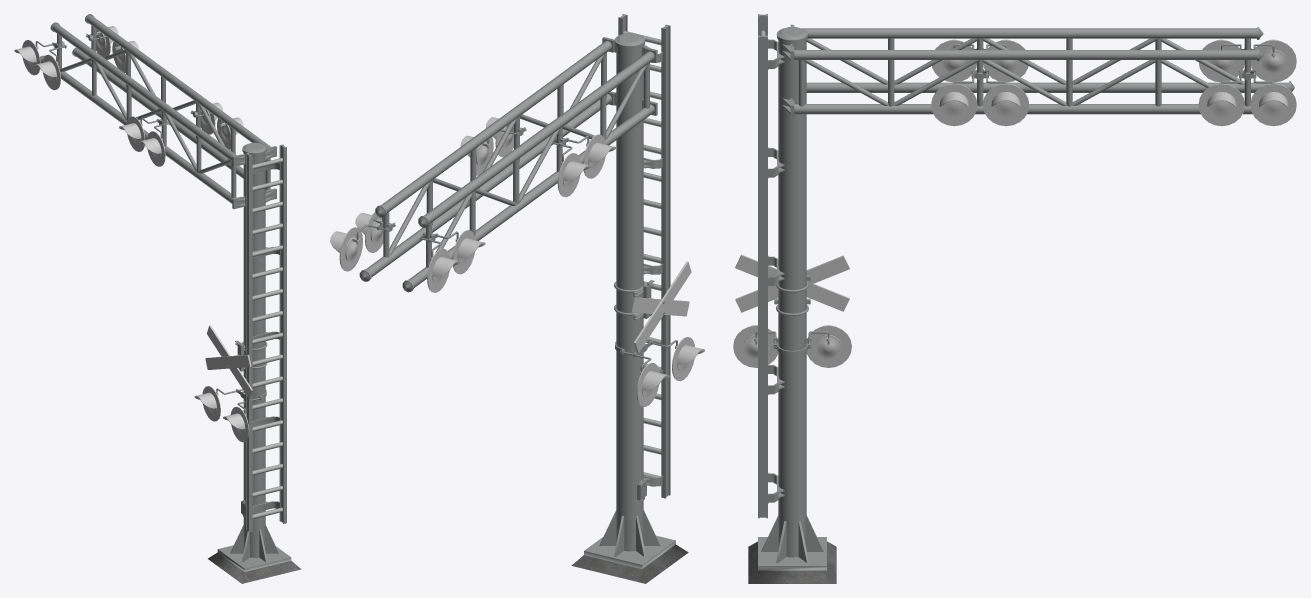
The model's file is Sign3_mdl.FBX.
3 views of the same model, side by side, from view 1: azimuth 30°, elevation 25°; view 2: azimuth 150°, elevation 25°; view 3: azimuth 270°, elevation 25° (orthographic). The views are drawn at different scales.
Visible parts, largest first — view 1: Sign3_mdl; view 2: Sign3_mdl; view 3: Sign3_mdl.
Boxes of the visible parts, x1,y1,x2,y2 form: Sign3_mdl: [14, 14, 301, 583]; Sign3_mdl: [330, 14, 704, 583]; Sign3_mdl: [733, 14, 1296, 583].
Size of what is drawn, in the model's own units: 134 by 555 by 526.
